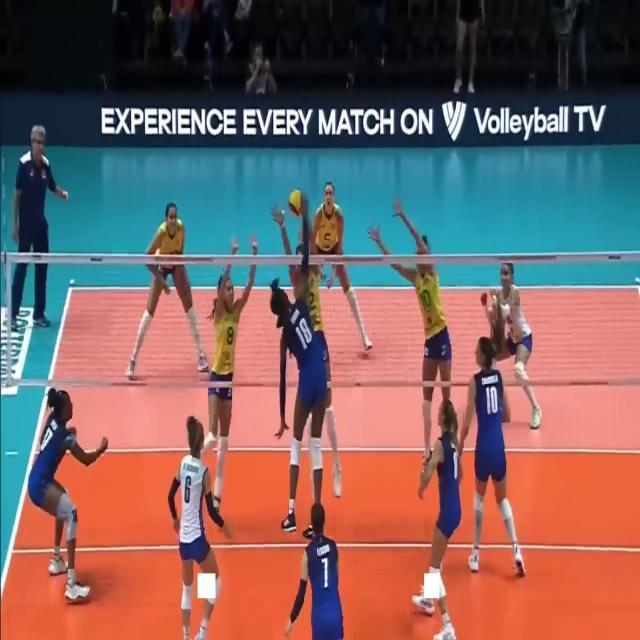volleyball: (287, 190, 301, 216)
